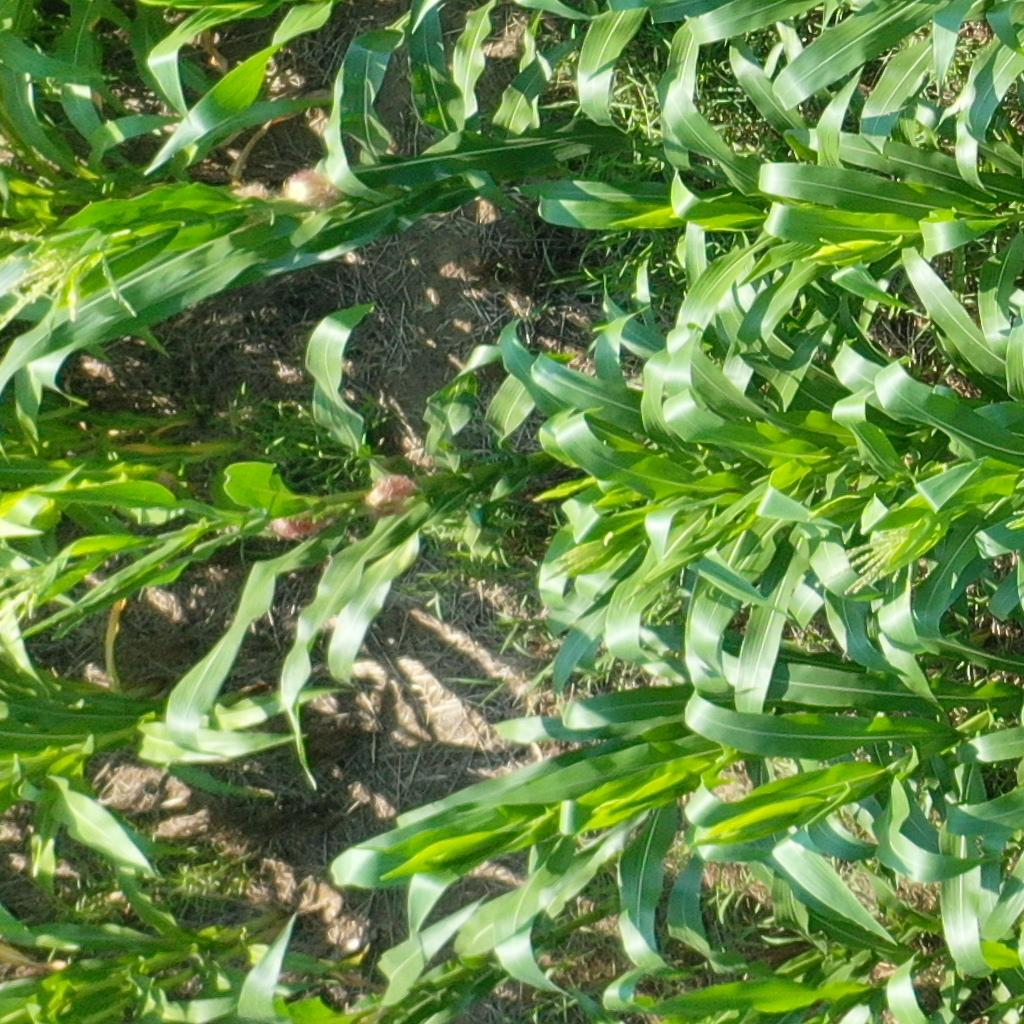Tassel: (1, 218, 142, 338), (830, 518, 928, 594), (1, 537, 59, 644), (538, 534, 614, 585), (1004, 511, 1024, 529)
